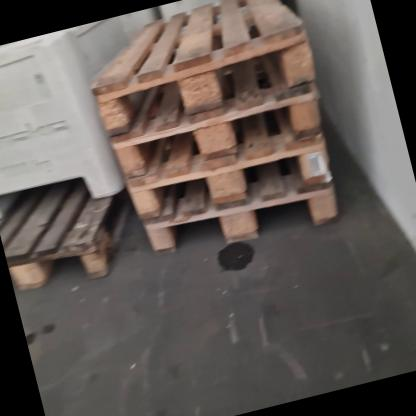BoxFace: (90, 0, 320, 140), (110, 91, 329, 187), (126, 141, 343, 227), (140, 184, 343, 260), (0, 193, 136, 298)
